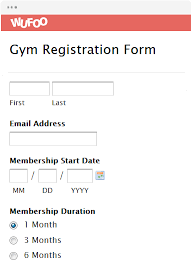RadioButton: (8, 236, 20, 246), (10, 220, 19, 230), (9, 252, 19, 261)
TextBox: (7, 129, 102, 150)
